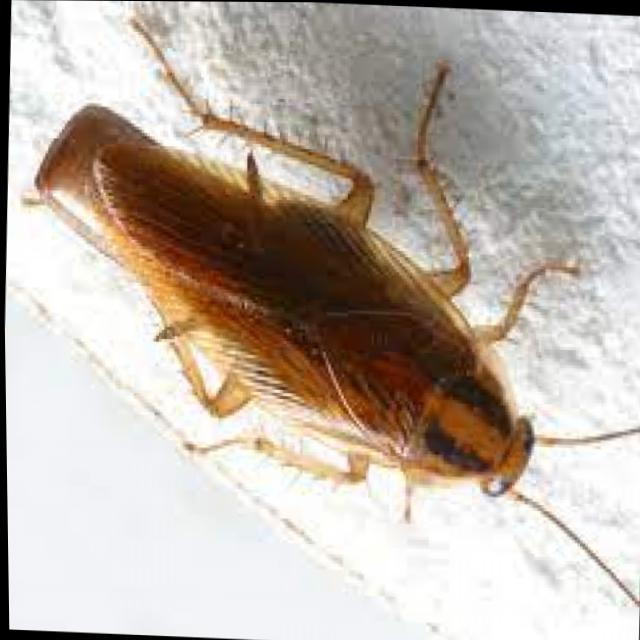Cockroach: (0, 6, 640, 638)
